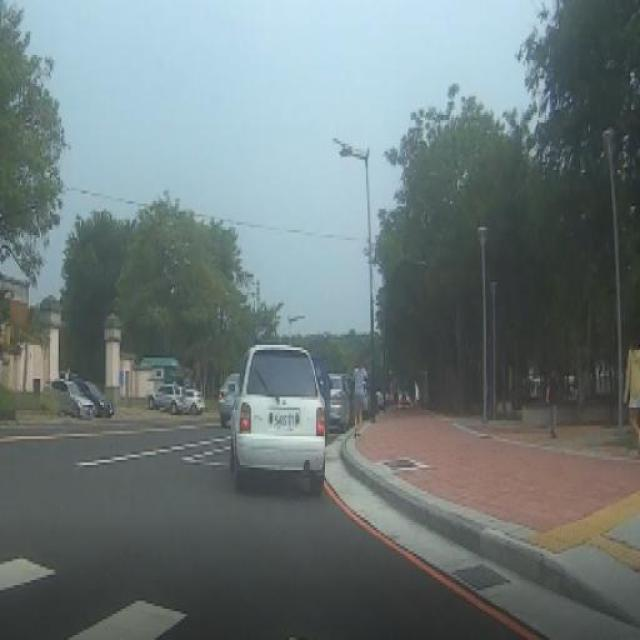Legalparking: (219, 297, 358, 517)
